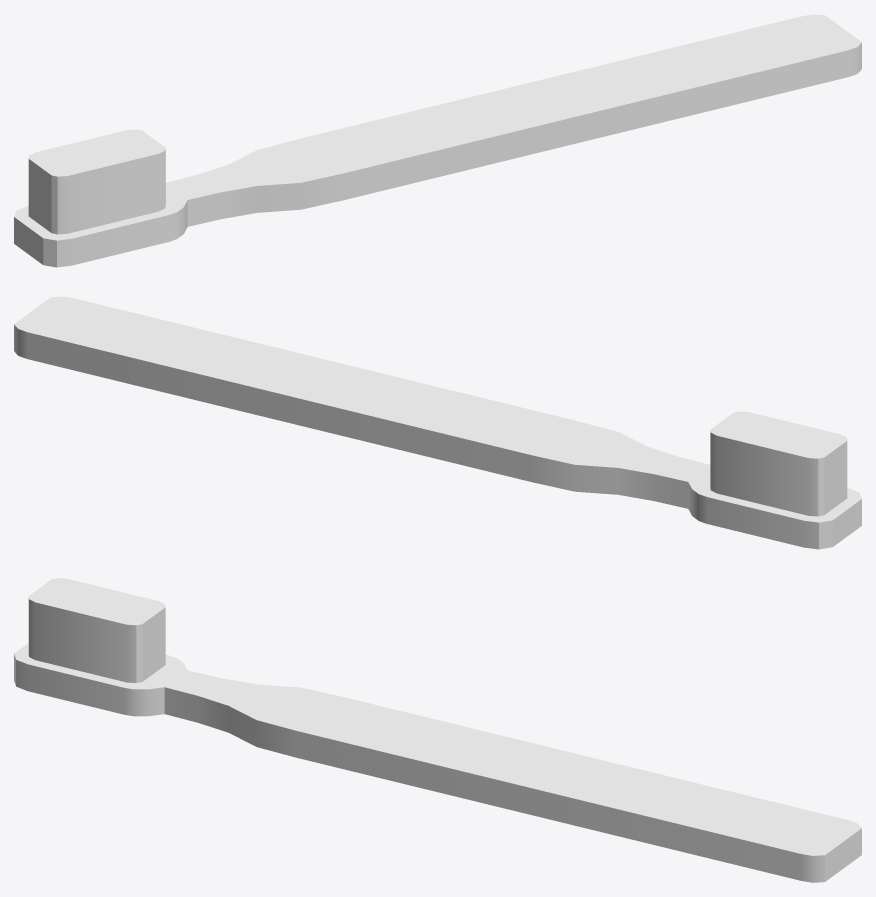
The model's file is tooth_brush.fbx.
3 renders of one model, top to bottom at view 1: azimuth 30°, elevation 25°; view 2: azimuth 150°, elevation 25°; view 3: azimuth 330°, elevation 25°, orthographic.
Parts seen in each view (by area): view 1: tooth_brush; view 2: tooth_brush; view 3: tooth_brush.
Part boxes in pixels (box(x1,y1,x2,y2)): tooth_brush: box(14, 14, 861, 267); tooth_brush: box(14, 296, 861, 549); tooth_brush: box(14, 578, 861, 882).
Size of the model in its own units: 579 by 57.49 by 57.13.
